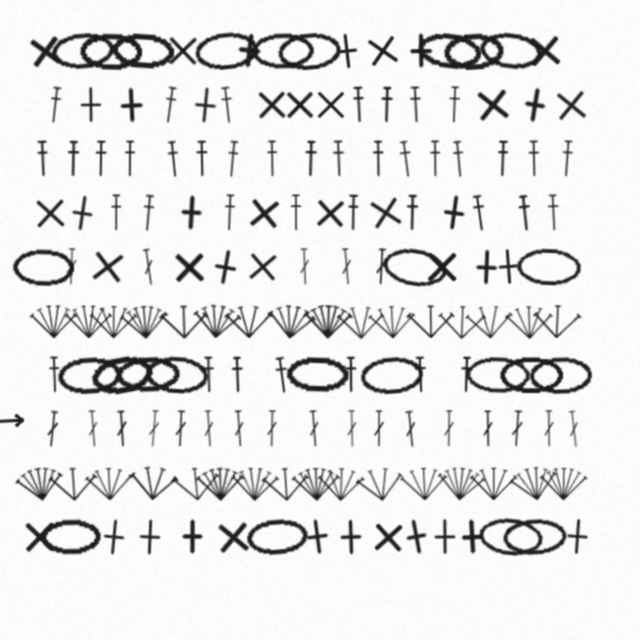chain: (380, 244, 449, 290), (88, 351, 155, 398), (415, 29, 483, 73), (477, 29, 545, 73), (477, 515, 545, 558), (193, 29, 260, 72), (276, 30, 342, 72), (359, 354, 425, 396), (50, 30, 115, 72), (245, 516, 310, 558), (144, 354, 210, 395), (56, 355, 122, 395), (502, 517, 568, 557), (110, 31, 175, 71), (442, 31, 506, 71), (516, 247, 581, 286), (115, 355, 180, 394), (285, 355, 349, 394), (465, 356, 530, 394), (251, 32, 315, 70), (529, 356, 593, 394), (79, 32, 142, 70), (499, 356, 563, 393), (12, 248, 74, 286), (40, 518, 102, 556)
double: (140, 248, 157, 286), (566, 410, 582, 448), (45, 410, 60, 448), (403, 410, 418, 448), (339, 248, 354, 285), (86, 410, 100, 447), (115, 410, 129, 447), (147, 410, 161, 447), (202, 410, 216, 447), (232, 410, 246, 447), (307, 410, 321, 447), (510, 410, 524, 447), (65, 248, 78, 285), (298, 248, 311, 285), (375, 248, 388, 285), (174, 410, 187, 447), (266, 410, 278, 447), (346, 410, 358, 447), (373, 410, 385, 447), (443, 410, 455, 447), (482, 410, 494, 447), (543, 410, 555, 447)
fan: (507, 460, 561, 505), (13, 461, 67, 505), (353, 461, 407, 505), (265, 300, 318, 342), (191, 300, 243, 341), (128, 462, 180, 503), (170, 462, 222, 503), (435, 462, 487, 503), (119, 301, 170, 341), (48, 463, 99, 503), (260, 463, 311, 503), (464, 301, 515, 340), (367, 301, 417, 340), (532, 301, 582, 340), (84, 463, 134, 502), (399, 463, 449, 502), (159, 302, 209, 340), (303, 302, 353, 340), (437, 302, 487, 340), (504, 302, 554, 340), (195, 464, 245, 502), (230, 464, 280, 502), (291, 464, 341, 502), (316, 464, 366, 502), (336, 302, 385, 340), (29, 302, 78, 339), (64, 302, 113, 339), (89, 302, 138, 339), (224, 302, 273, 339), (406, 302, 455, 339), (469, 464, 518, 501), (539, 464, 588, 501)
half_double: (470, 194, 489, 232), (46, 86, 64, 124), (161, 86, 179, 124), (218, 86, 236, 124), (397, 140, 415, 178), (273, 356, 291, 394), (165, 140, 182, 178), (224, 140, 241, 178), (450, 140, 467, 178), (140, 194, 157, 232), (516, 194, 533, 232), (559, 140, 575, 177), (351, 86, 366, 123), (379, 86, 394, 123), (408, 86, 423, 123), (447, 86, 462, 123), (35, 140, 50, 177), (303, 140, 318, 177), (331, 140, 346, 177), (495, 140, 510, 177), (222, 194, 237, 231), (546, 194, 561, 231), (47, 356, 62, 393), (201, 356, 216, 393), (230, 356, 245, 393), (413, 356, 428, 393), (459, 356, 474, 393), (66, 140, 80, 177), (94, 140, 108, 177), (123, 140, 137, 177), (195, 140, 209, 177), (265, 140, 279, 177), (371, 140, 385, 177), (428, 140, 442, 177), (527, 140, 541, 177), (109, 194, 123, 231), (289, 194, 303, 231), (346, 194, 360, 231), (405, 194, 419, 231), (344, 356, 358, 393)
noise: (0, 413, 26, 429)
single: (361, 29, 404, 72), (364, 191, 407, 234), (395, 515, 438, 558), (24, 30, 66, 72), (514, 84, 556, 126), (61, 192, 103, 234), (204, 246, 246, 288), (229, 30, 270, 71), (472, 84, 513, 125), (433, 192, 474, 233), (87, 246, 128, 287), (297, 516, 338, 557), (327, 31, 367, 71), (185, 85, 225, 125), (551, 85, 591, 125), (244, 193, 284, 233), (94, 517, 134, 557), (213, 517, 253, 557), (525, 31, 564, 70), (172, 193, 211, 232), (243, 247, 282, 286), (489, 247, 528, 286), (452, 517, 491, 556), (558, 517, 597, 556), (112, 86, 150, 124), (31, 194, 69, 232), (311, 194, 349, 232), (170, 248, 208, 286), (467, 248, 505, 286), (131, 518, 169, 556), (332, 518, 370, 556), (369, 518, 407, 556), (164, 32, 201, 69), (402, 32, 439, 69), (72, 86, 109, 123), (253, 86, 290, 123), (281, 86, 318, 123), (312, 86, 349, 123), (423, 248, 460, 285), (21, 518, 58, 555), (174, 518, 211, 555), (426, 518, 463, 555)
